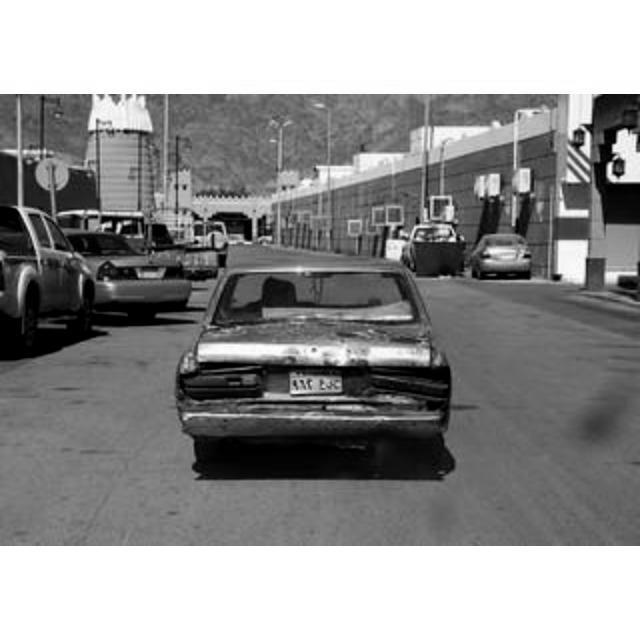boot-dent: (204, 316, 426, 376)
rear-bumper-dent: (206, 398, 434, 444)
